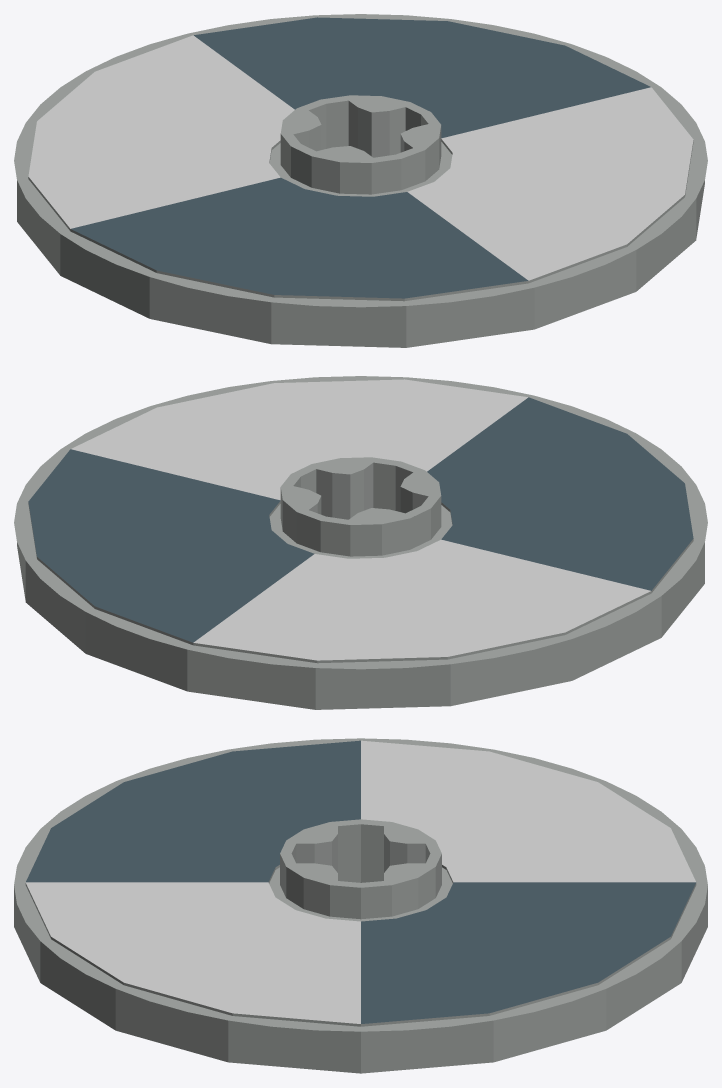
The picture shows the model from 3 angles, top to bottom: view 1: azimuth 30°, elevation 25°; view 2: azimuth 150°, elevation 25°; view 3: azimuth 270°, elevation 25°; orthographic projection.
Parts seen in each view (by area): view 1: world; view 2: world; view 3: world.
Boxes of the visible parts, x1=… form: world: x1=14, y1=14, x2=707, y2=347; world: x1=14, y1=376, x2=707, y2=709; world: x1=14, y1=738, x2=707, y2=1073.
Bounding box in the file's own units: 0.024 × 0.004 × 0.024.
